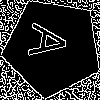A: (27, 22, 78, 63)
